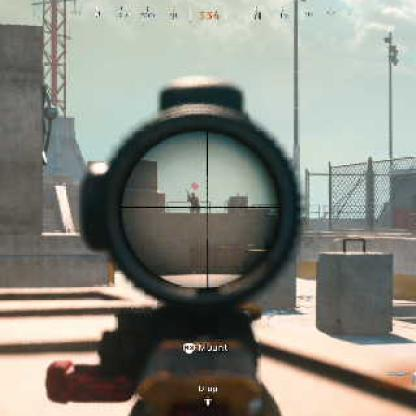enemy: (186, 190, 199, 213)
